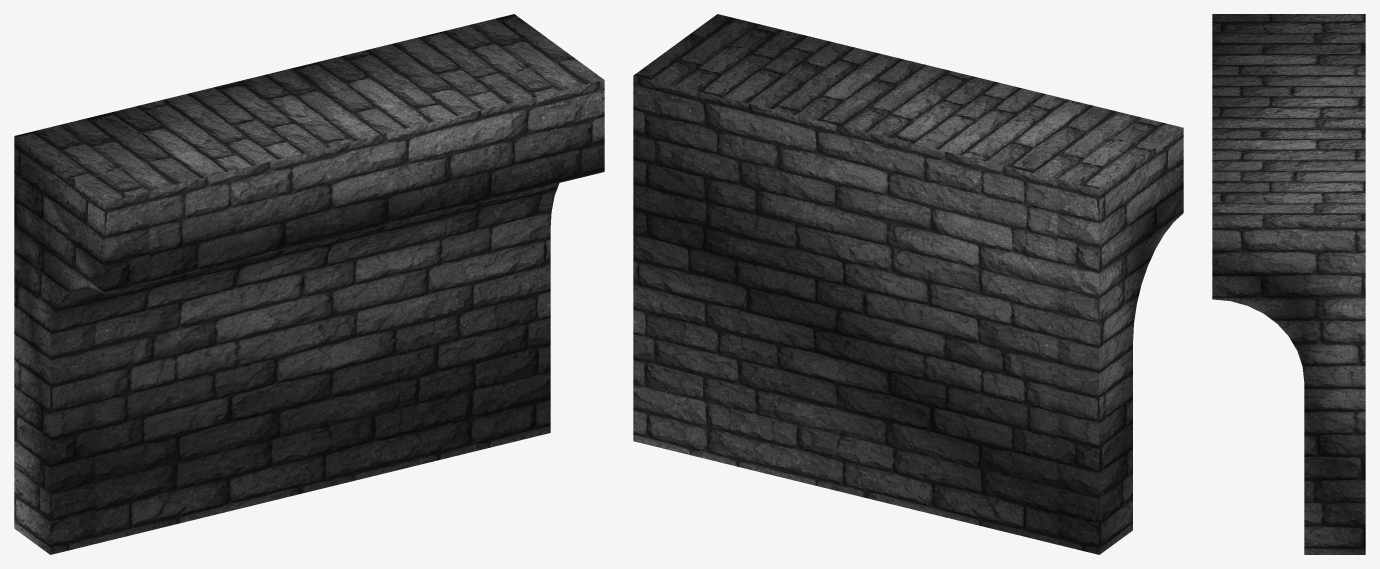
File: stone wall sloped.glb
The picture shows the model from 3 angles, left to right: view 1: azimuth 30°, elevation 25°; view 2: azimuth 150°, elevation 25°; view 3: azimuth 270°, elevation 25°; orthographic projection. The views are drawn at different scales.
Visible parts, largest first — view 1: Circular Doorway.011; view 2: Circular Doorway.011; view 3: Circular Doorway.011.
Boxes of the visible parts, x1,y1,x2,y2 form: Circular Doorway.011: (14, 14, 604, 554); Circular Doorway.011: (633, 14, 1183, 554); Circular Doorway.011: (1212, 14, 1365, 554).
Bounding box in the file's own units: 3.66 × 2.74 × 1.14.
Materials: 1 (1 with a texture image).
